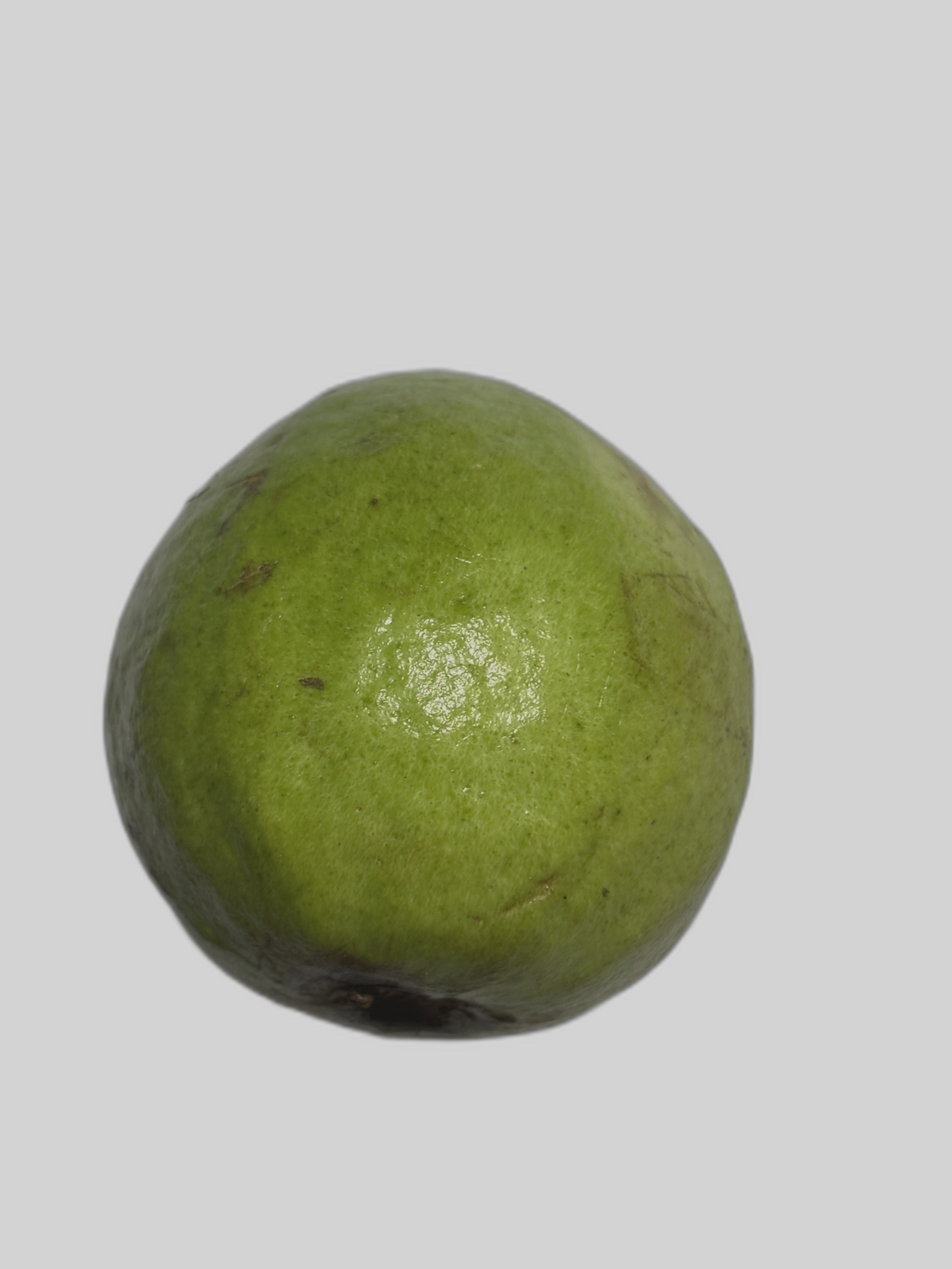guava: (58, 143, 741, 1159)
